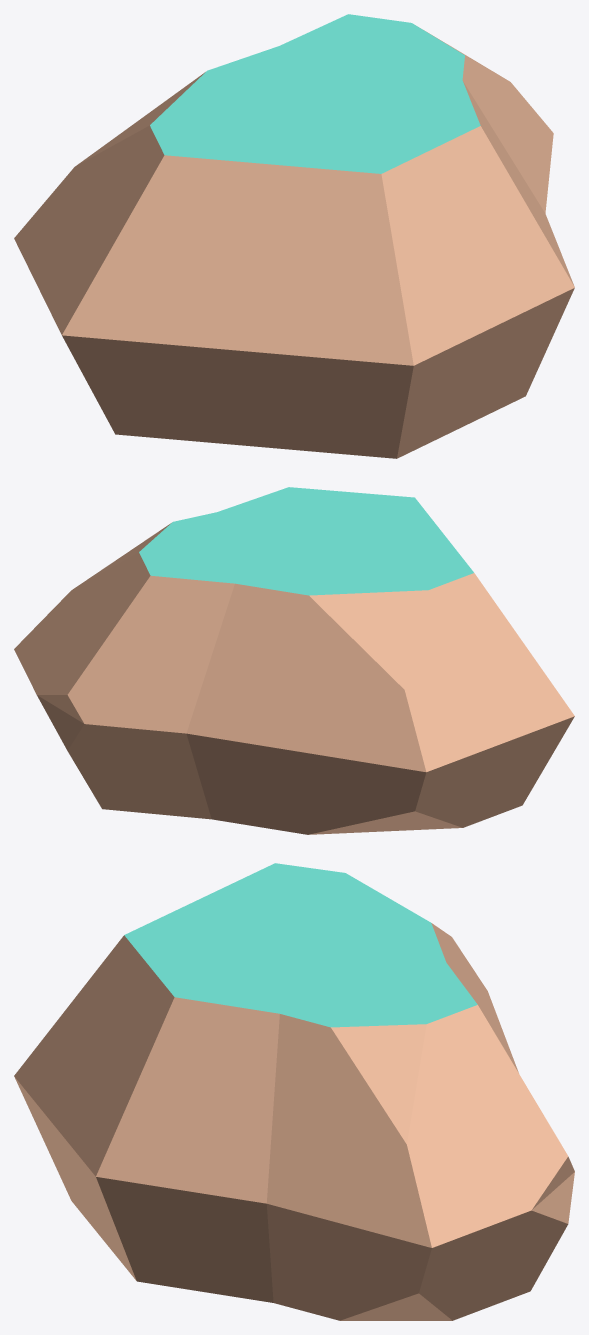
3 renders of one model, top to bottom at view 1: azimuth 30°, elevation 25°; view 2: azimuth 150°, elevation 25°; view 3: azimuth 270°, elevation 25°, orthographic. The views are drawn at different scales.
Visible parts, largest first — view 1: rock_largeF; view 2: rock_largeF; view 3: rock_largeF.
Part boxes in pixels (x1,y1,x2,y2): rock_largeF: (14,14,574,458); rock_largeF: (14,487,574,834); rock_largeF: (14,863,574,1320).
Bounding box in the file's own units: 1.1 × 0.479 × 0.899.
